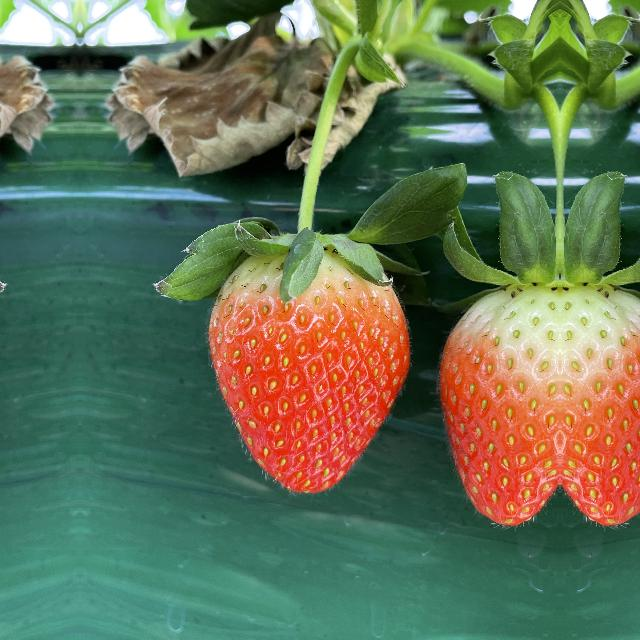Health_100: (207, 232, 416, 504)
Health_75: (438, 267, 560, 523), (560, 267, 640, 523)
